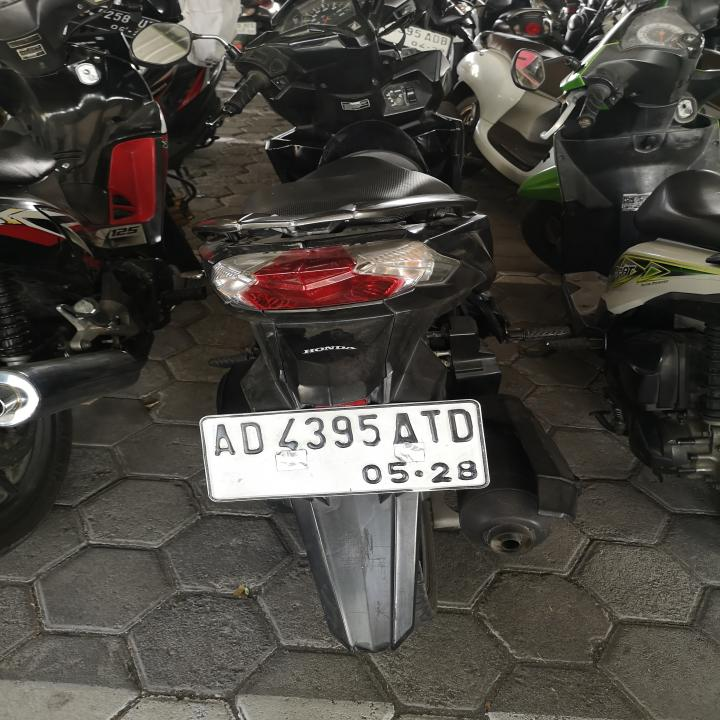plate: (198, 397, 491, 505), (381, 21, 454, 61)
